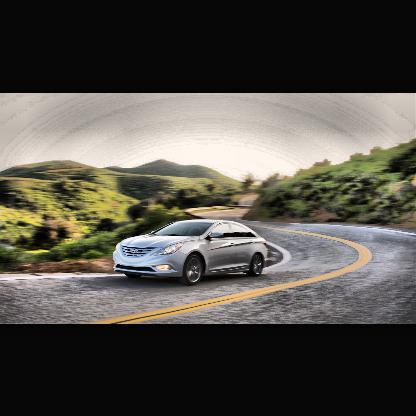Hyundai Sonata Sedan 2012: (112, 220, 272, 287)
